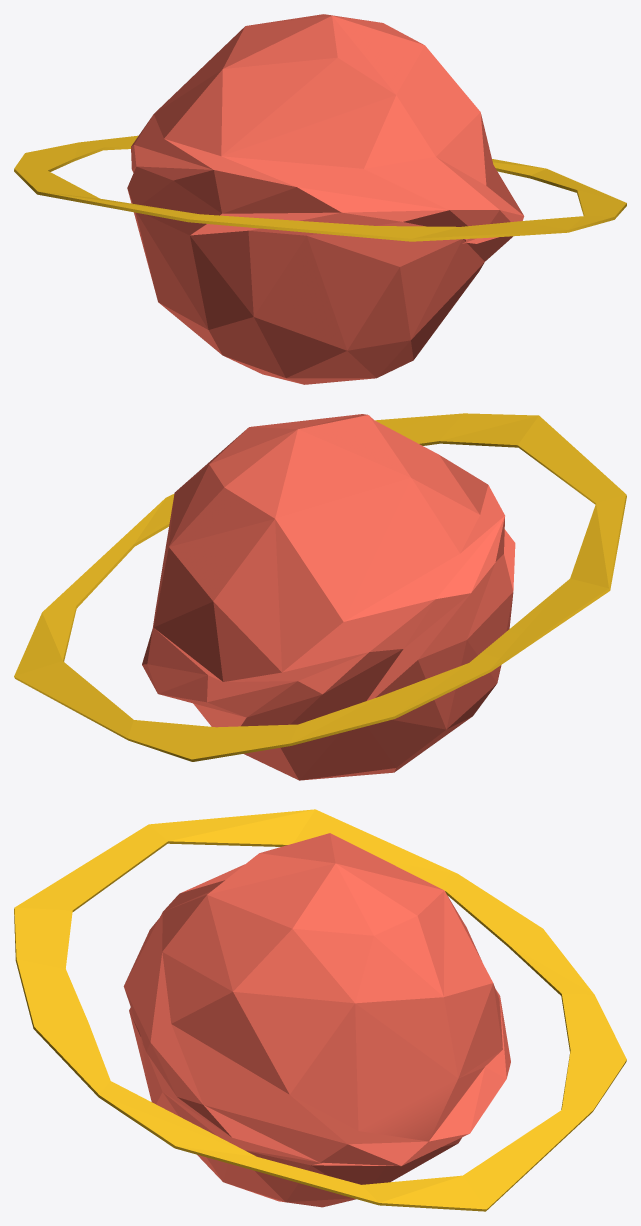
Rendered from Planet_04_a.fbx.
The picture shows the model from 3 angles, top to bottom: view 1: azimuth 30°, elevation 25°; view 2: azimuth 150°, elevation 25°; view 3: azimuth 270°, elevation 25°; orthographic projection.
Visible parts, largest first — view 1: Planet_05; view 2: Planet_05; view 3: Planet_05.
Boxes of the visible parts, <box> form: Planet_05: <box>14,14,626,384</box>; Planet_05: <box>14,413,626,780</box>; Planet_05: <box>14,809,626,1211</box>.
Bounding box in the file's own units: 115 × 69.21 × 114.
